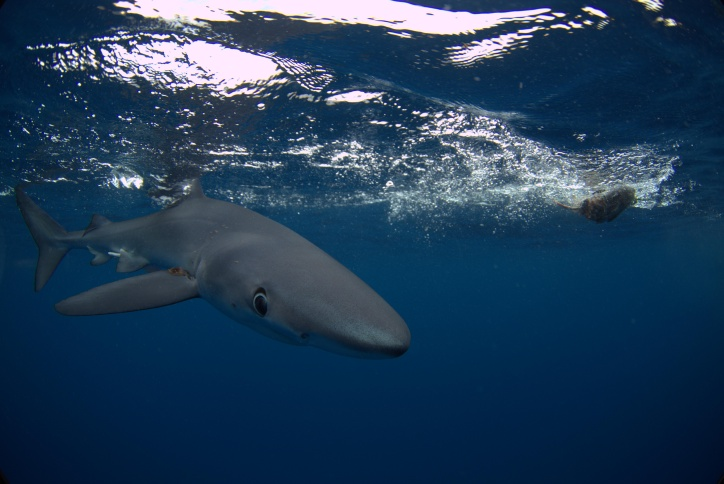Azul: (6, 170, 452, 380)
